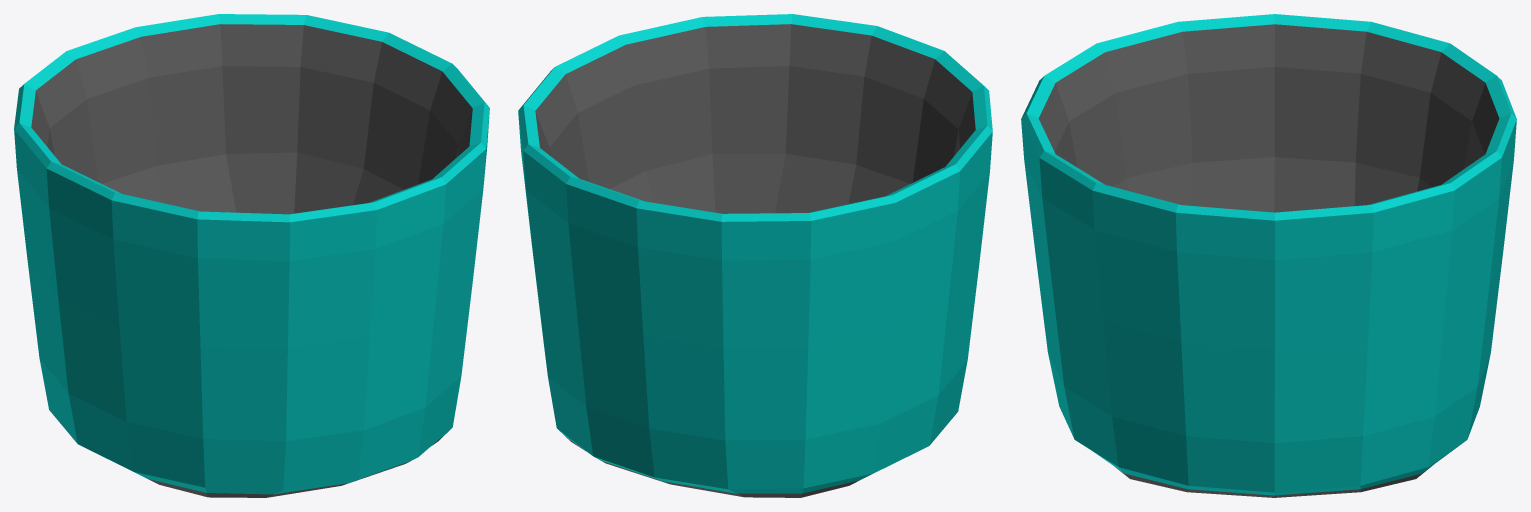
The model's file is olla.fbx.
3 renders of one model, left to right at view 1: azimuth 30°, elevation 25°; view 2: azimuth 150°, elevation 25°; view 3: azimuth 270°, elevation 25°, orthographic.
Parts seen in each view (by area): view 1: olla; view 2: olla; view 3: olla.
Boxes of the visible parts, x1=… form: olla: x1=14, y1=14, x2=489, y2=497; olla: x1=518, y1=14, x2=992, y2=497; olla: x1=1021, y1=14, x2=1516, y2=497.
Size of the model in its own units: 76.35 by 55.81 by 78.72.
